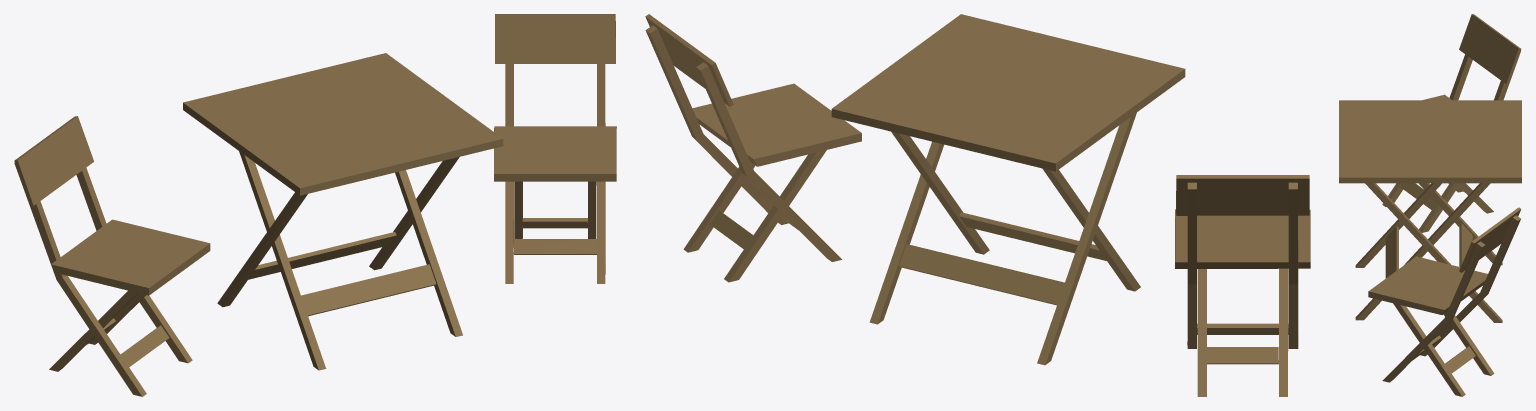
File: chairs.fbx
The picture shows the model from 3 angles, left to right: view 1: azimuth 30°, elevation 25°; view 2: azimuth 150°, elevation 25°; view 3: azimuth 270°, elevation 25°; orthographic projection. The views are drawn at different scales.
Parts seen in each view (by area): view 1: _gltfNode_0; view 2: _gltfNode_0; view 3: _gltfNode_0.
Boxes of the visible parts, x1,y1,x2,y2 form: _gltfNode_0: [14, 14, 616, 396]; _gltfNode_0: [645, 14, 1310, 396]; _gltfNode_0: [1339, 14, 1521, 396].
Size of the model in its own units: 1.18 by 0.3957 by 0.3978.
